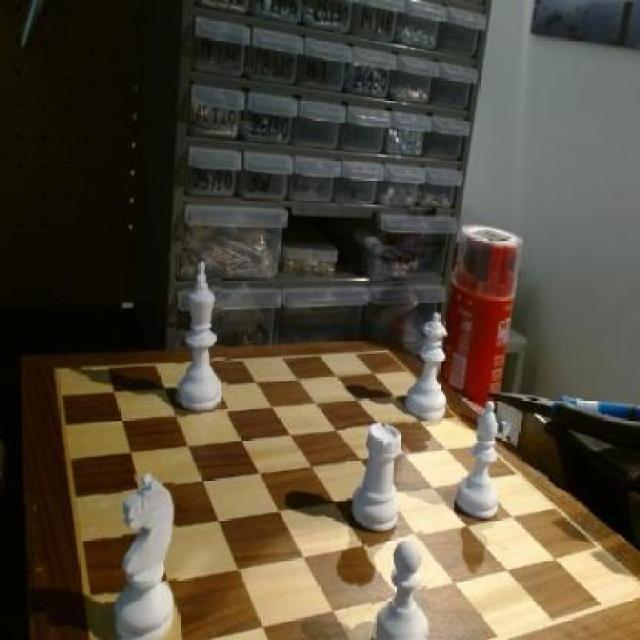black-rook: (460, 398, 502, 521)
white-bishop: (172, 251, 227, 418)
white-king: (103, 472, 177, 640)
white-knight: (368, 532, 428, 640)
white-pawn: (406, 314, 449, 418)
white-queen: (346, 418, 406, 548)
